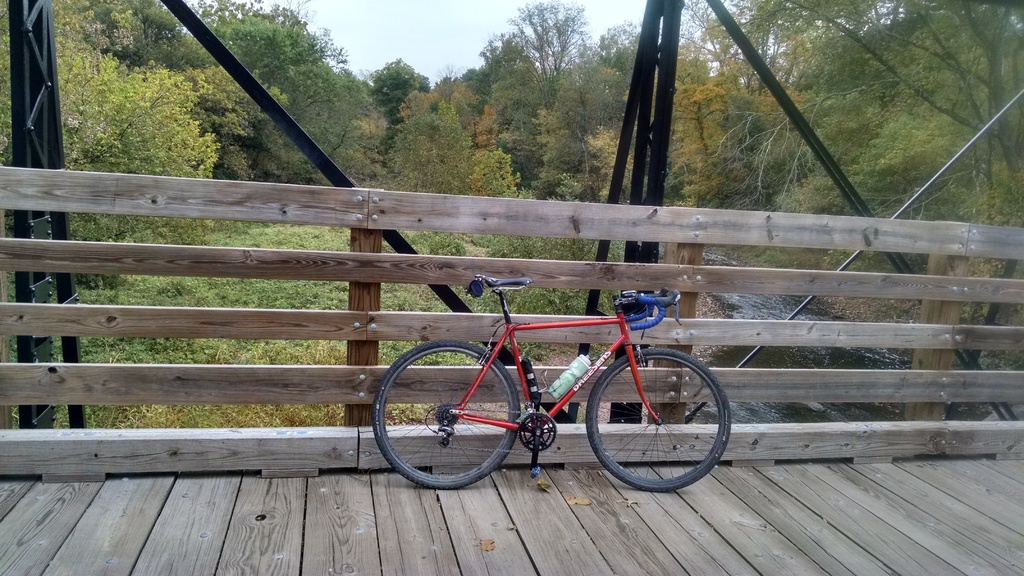Bike_toward: (332, 302, 695, 482)
